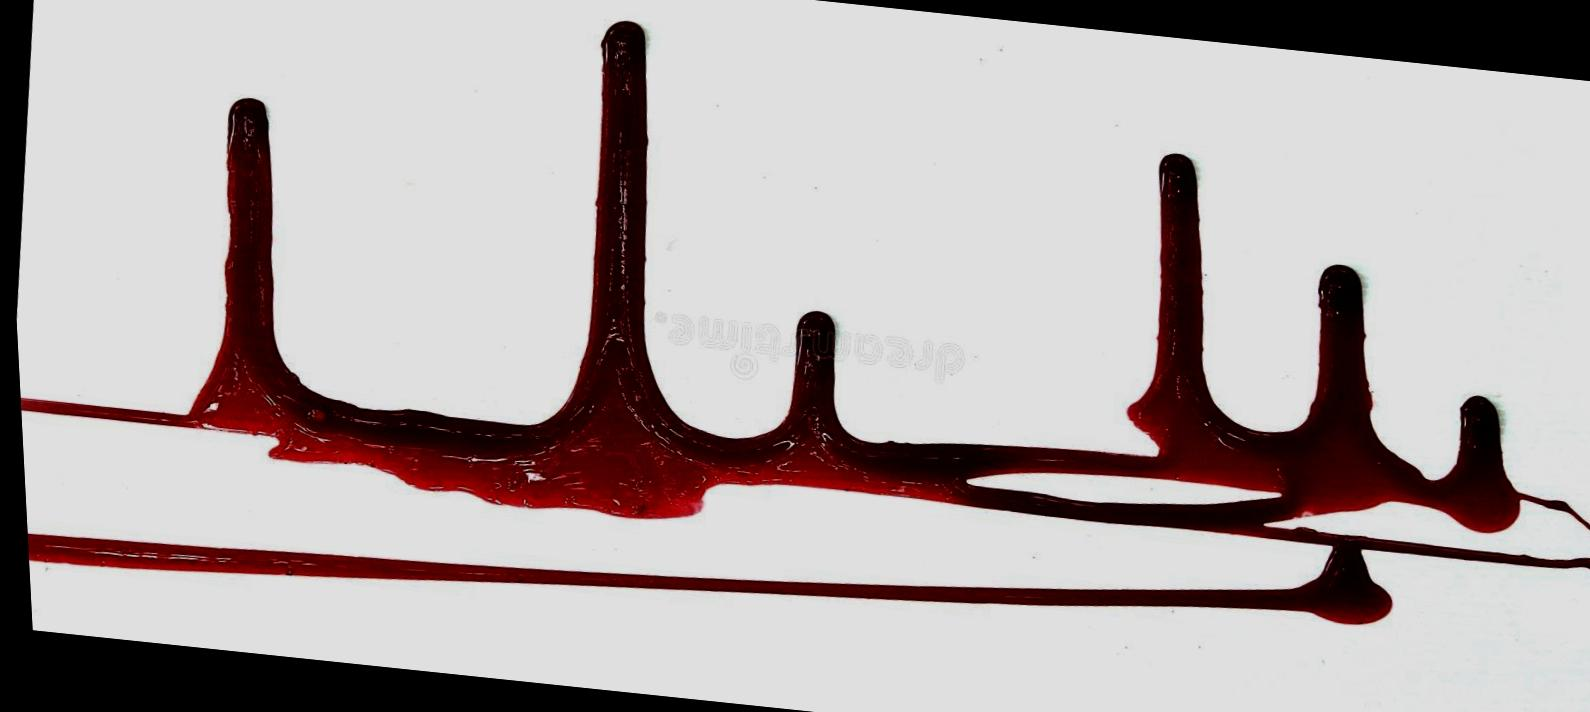Fire: (16, 21, 1590, 626)
